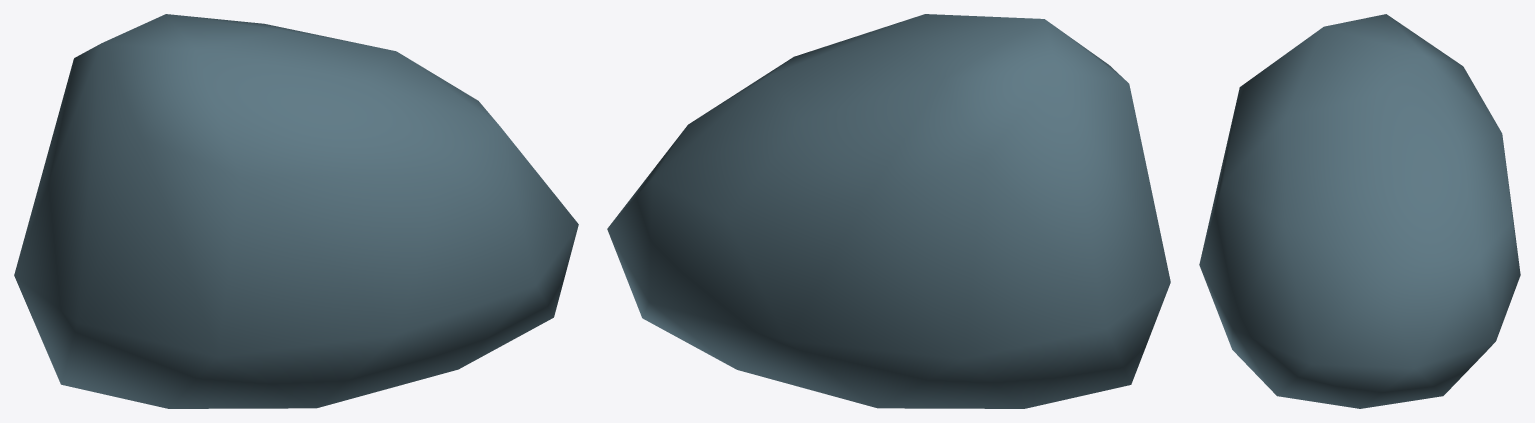
The model's file is rock-001.gltf.
The picture shows the model from 3 angles, left to right: view 1: azimuth 30°, elevation 25°; view 2: azimuth 150°, elevation 25°; view 3: azimuth 270°, elevation 25°; orthographic projection. The views are drawn at different scales.
Parts seen in each view (by area): view 1: Cylinder.002; view 2: Cylinder.002; view 3: Cylinder.002.
Part boxes in pixels (box(x1,y1,x2,y2)): Cylinder.002: box(14, 14, 578, 408); Cylinder.002: box(607, 14, 1170, 408); Cylinder.002: box(1199, 14, 1520, 408).
Bounding box in the file's own units: 2.81 × 1.73 × 2.03.
